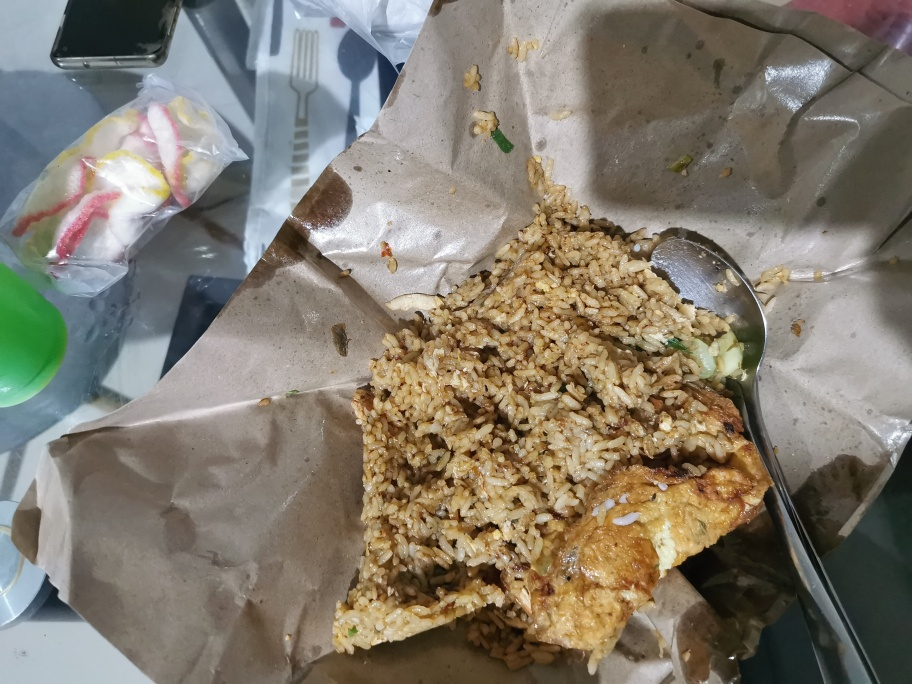nasi goreng: (362, 227, 769, 675)
